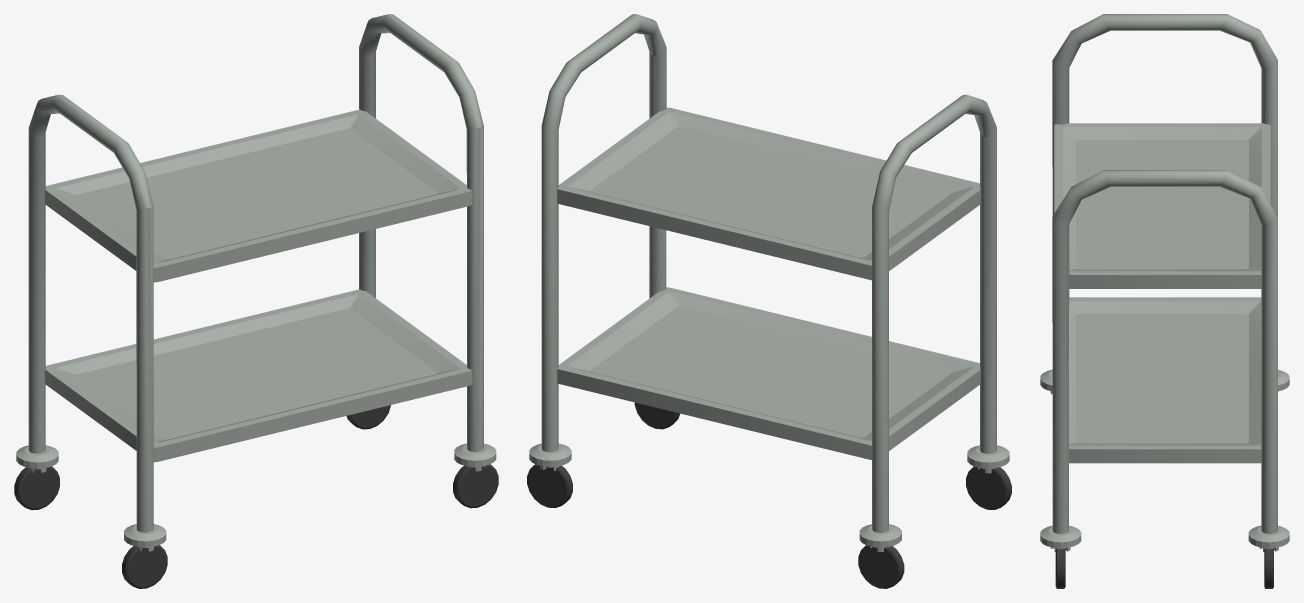
Rendered from Cart.FBX.
3 views of the same model, side by side, from view 1: azimuth 30°, elevation 25°; view 2: azimuth 150°, elevation 25°; view 3: azimuth 270°, elevation 25° (orthographic). The views are drawn at different scales.
Visible parts, largest first — view 1: Cart; view 2: Cart; view 3: Cart.
Part boxes in pixels (x1,y1,x2,y2): Cart: [14, 14, 498, 588]; Cart: [527, 14, 1011, 588]; Cart: [1040, 14, 1289, 588].
Bounding box in the file's own units: 67.59 × 74.32 × 40.39.
Materials: 1 (1 with a texture image).
